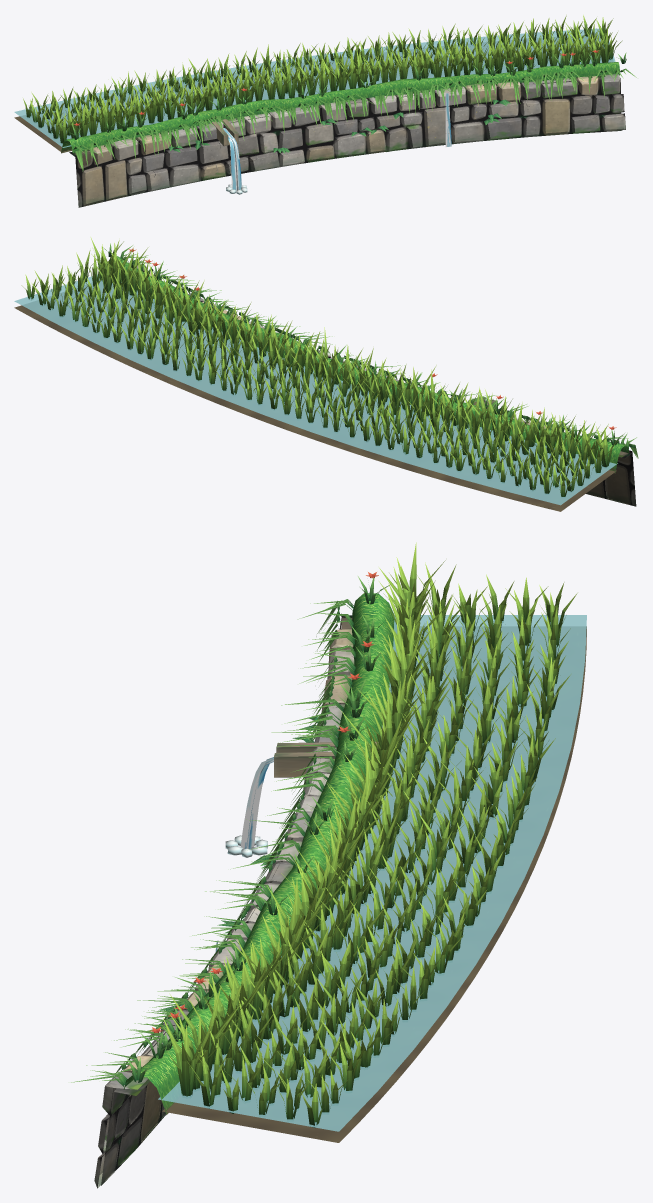
Rendered from terrace_concave_young.glb.
The picture shows the model from 3 angles, top to bottom: view 1: azimuth 30°, elevation 25°; view 2: azimuth 150°, elevation 25°; view 3: azimuth 270°, elevation 25°; orthographic projection. The views are drawn at different scales.
Visible parts, largest first — view 1: terrace_concave_young_plants, terrace_concave_young_wall, terrace_concave_young_dike, terrace_concave_young_water, terrace_concave_young_spout_fall, terrace_concave_young_spout, terrace_concave_young_seep; view 2: terrace_concave_young_plants, terrace_concave_young_water, terrace_concave_young_dike, terrace_concave_young_wall; view 3: terrace_concave_young_plants, terrace_concave_young_water, terrace_concave_young_dike, terrace_concave_young_wall, terrace_concave_young_spout, terrace_concave_young_spout_fall.
Boxes of the visible parts, left/top/right/bottom form: terrace_concave_young_plants: left=23, top=15, right=636, bottom=171; terrace_concave_young_wall: left=69, top=74, right=625, bottom=207; terrace_concave_young_dike: left=14, top=38, right=619, bottom=153; terrace_concave_young_water: left=14, top=28, right=615, bottom=147; terrace_concave_young_spout_fall: left=223, top=128, right=241, bottom=190; terrace_concave_young_spout: left=212, top=119, right=238, bottom=146; terrace_concave_young_seep: left=445, top=93, right=451, bottom=146; terrace_concave_young_plants: left=21, top=237, right=638, bottom=496; terrace_concave_young_water: left=14, top=274, right=617, bottom=505; terrace_concave_young_dike: left=14, top=256, right=629, bottom=511; terrace_concave_young_wall: left=129, top=262, right=636, bottom=506; terrace_concave_young_plants: left=71, top=542, right=577, bottom=1127; terrace_concave_young_water: left=158, top=615, right=586, bottom=1131; terrace_concave_young_dike: left=123, top=593, right=586, bottom=1142; terrace_concave_young_wall: left=94, top=613, right=354, bottom=1188; terrace_concave_young_spout: left=274, top=741, right=378, bottom=777; terrace_concave_young_spout_fall: left=240, top=757, right=273, bottom=849.
Size of the model in its own units: 13 by 1.99 by 5.42.
6 materials, 5 textured.
